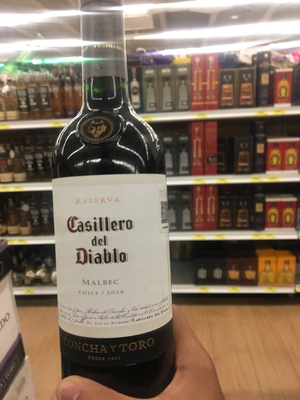casillero del diablo malbec: (39, 12, 190, 397)
